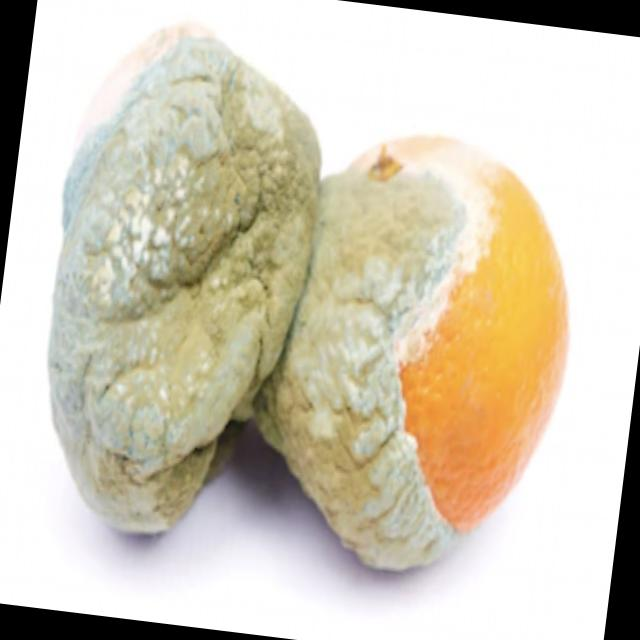rotten-orange: (257, 116, 593, 592)
